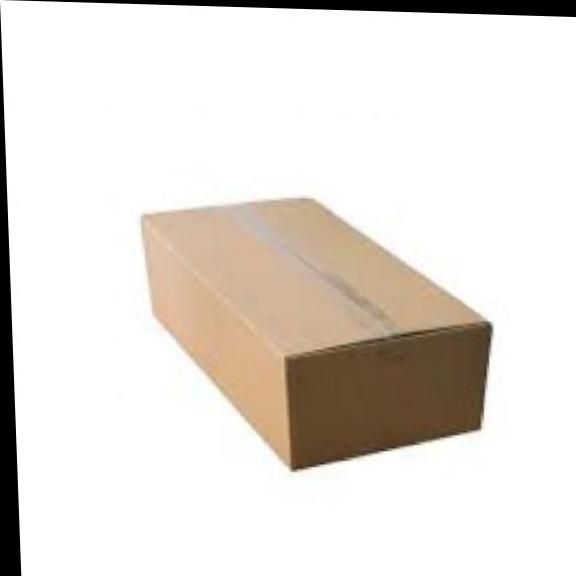Kertas: (143, 199, 488, 467)
